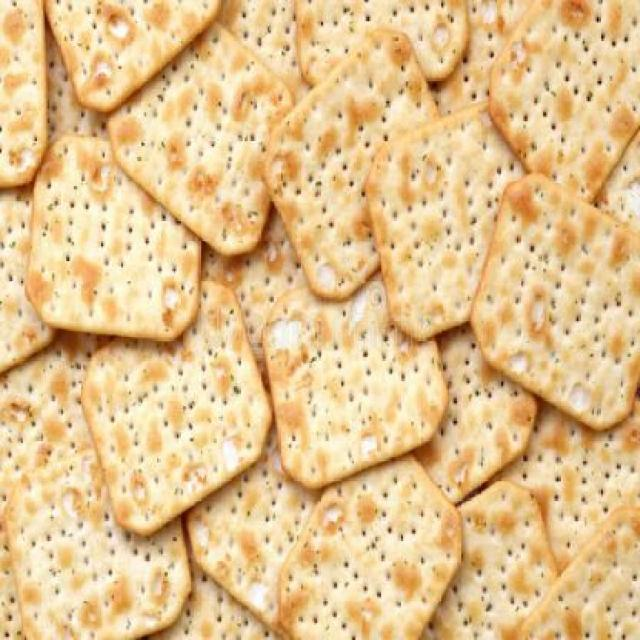Cracker packaged: (70, 278, 273, 540), (12, 122, 216, 352), (253, 28, 436, 282), (470, 172, 639, 440), (256, 273, 472, 475), (266, 442, 463, 638)
